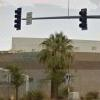traffic lights: (14, 5, 22, 33), (79, 7, 87, 30)
